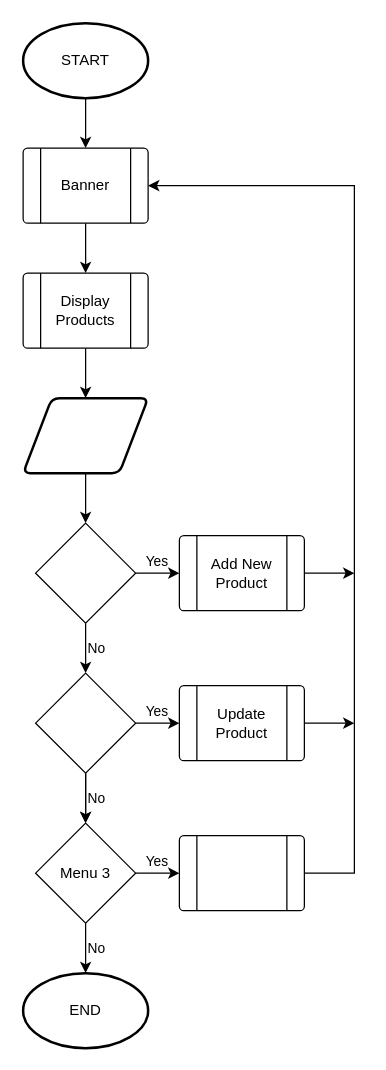
This 386x1070 diagram has some shape labels left out. The shapes that lost their labels are listed below. From the top down, each one's box as (x1, y1, x2, y2) in pixels, then its label:
(21, 396, 149, 474): Menu
(34, 522, 136, 623): Menu 1
(34, 672, 136, 773): Menu 2
(178, 834, 304, 911): Delete Product
